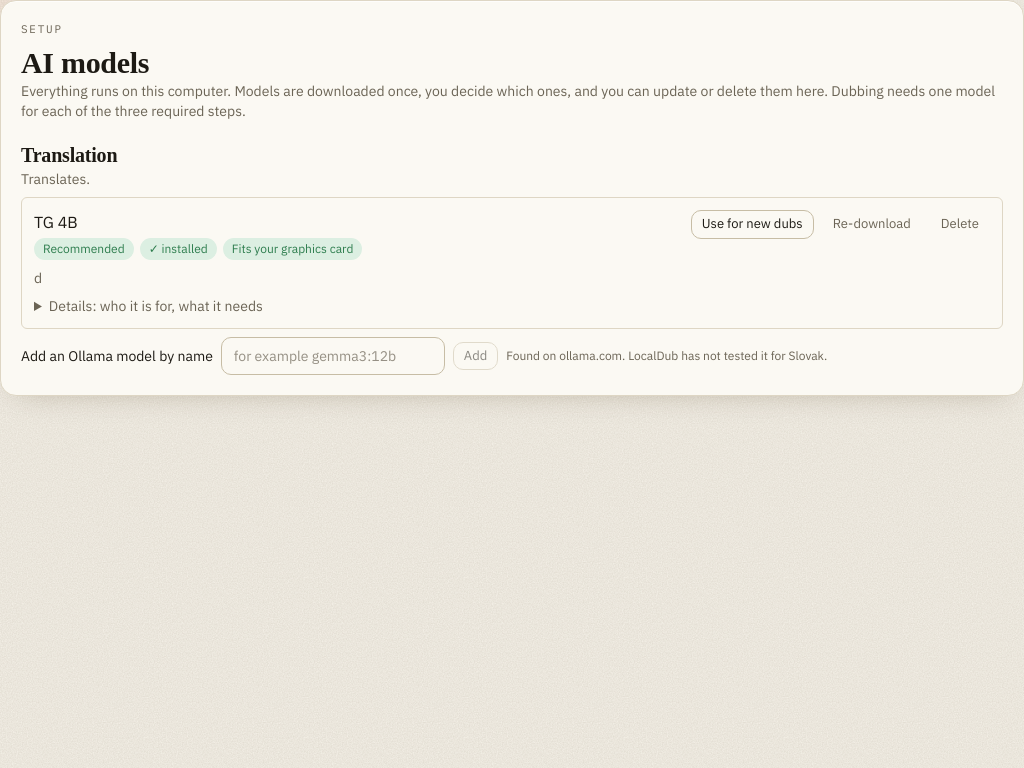
ModelsPanel › warns that deleting an Ollama model affects other programs too
Click the button "Delete" at (960, 224), box [930,210,990,239]
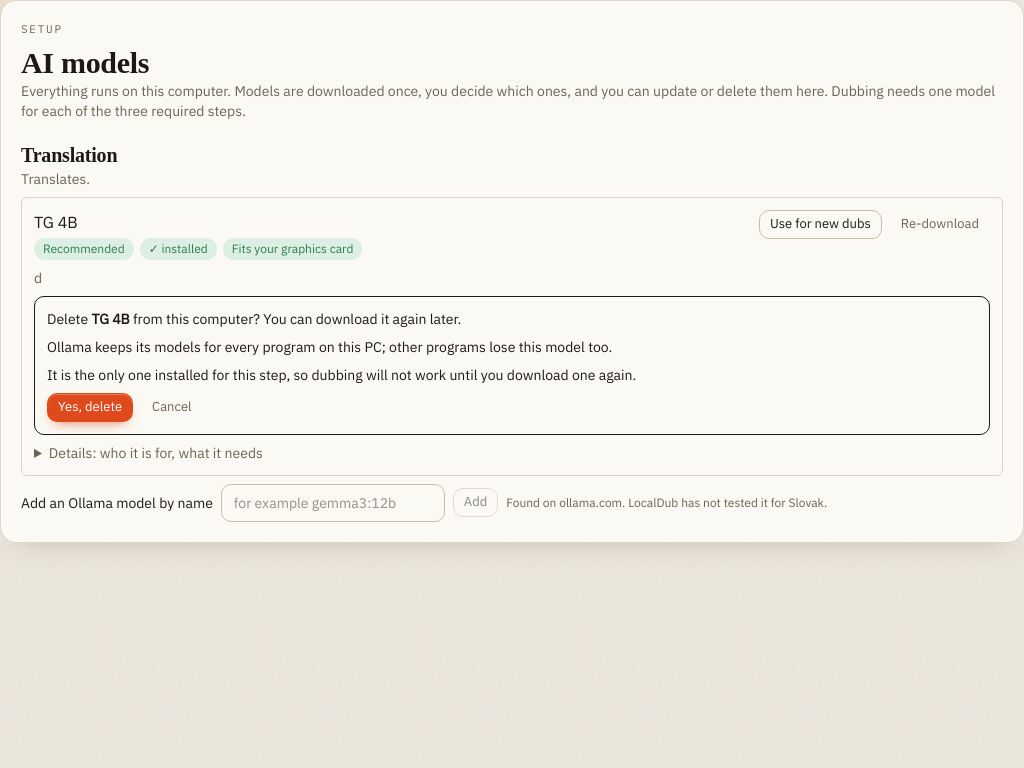
Result: the text "other programs lose this model too" is shown at [47,338,612,356]
Result: the text "only one installed for this step" is shown at [47,366,636,384]
